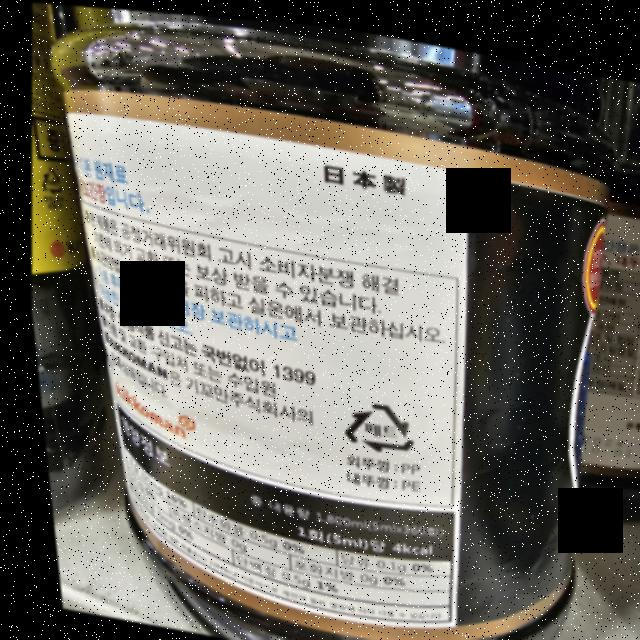PET: (327, 388, 413, 454)
